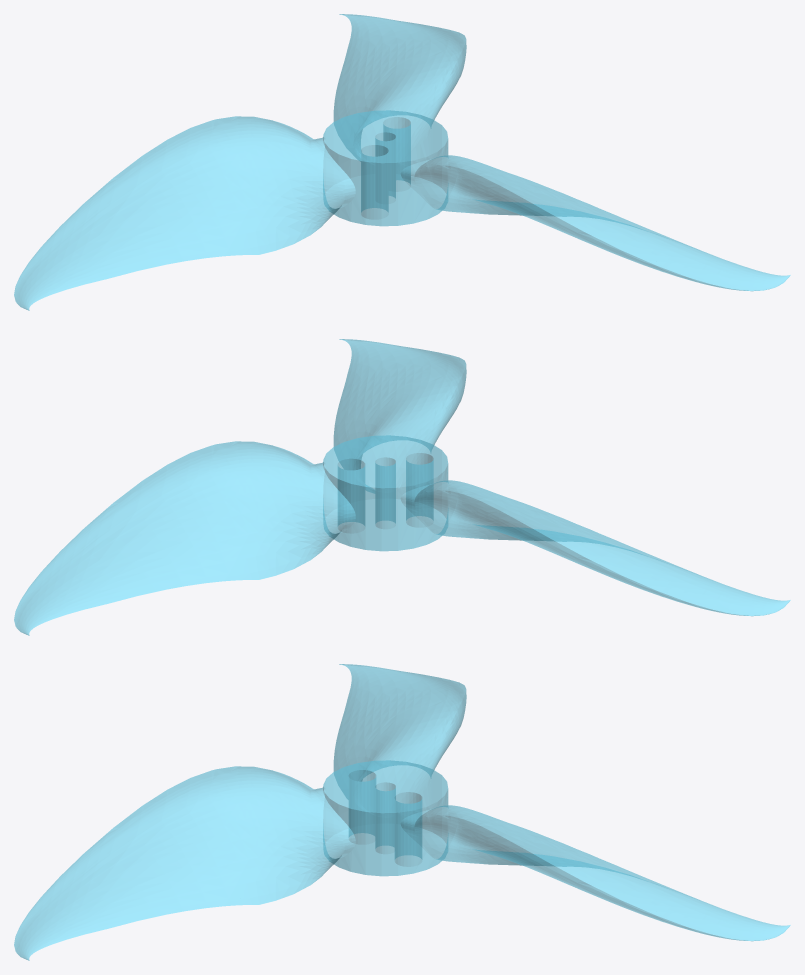
The model's file is propeller.fbx.
3 renders of one model, top to bottom at view 1: azimuth 30°, elevation 25°; view 2: azimuth 150°, elevation 25°; view 3: azimuth 270°, elevation 25°, orthographic.
Visible parts, largest first — view 1: Shape_IndexedFaceSet.180; view 2: Shape_IndexedFaceSet.180; view 3: Shape_IndexedFaceSet.180.
Part boxes in pixels (box(x1,y1,x2,y2)): Shape_IndexedFaceSet.180: box(14, 14, 790, 310); Shape_IndexedFaceSet.180: box(14, 339, 790, 635); Shape_IndexedFaceSet.180: box(14, 664, 790, 960).
Size of the model in its own units: 5.58 by 5.05 by 0.6982.
